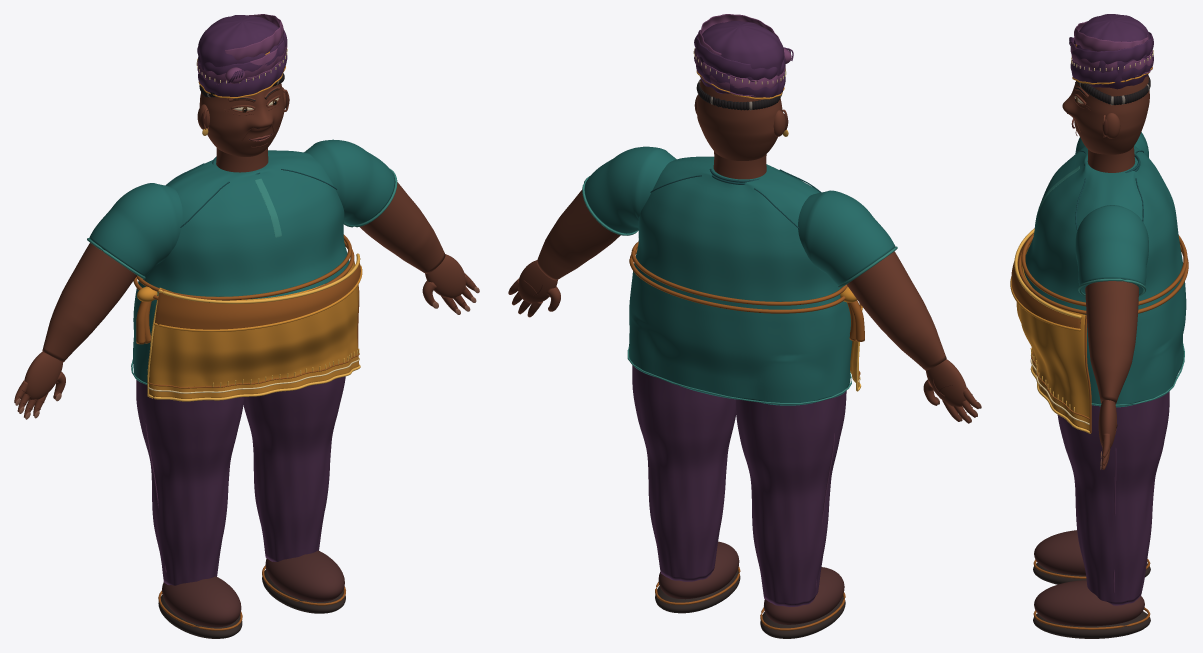
3 views of the same model, side by side, from view 1: azimuth 30°, elevation 25°; view 2: azimuth 150°, elevation 25°; view 3: azimuth 270°, elevation 25° (orthographic).
Parts seen in each view (by area): view 1: 01 Tunic • shaped full chest abdomen hips and back, R trouser leg • broad thigh shaped knee calf, 06 Saffron apron • curved woven panel, L trouser leg • broad thigh shaped knee calf, R woven short sleeve, R continuous upper arm elbow and forearm, Apron layered diagonal turnback, L woven short sleeve, 07 Dalia • integrated face cranium nose cheekbones and jaw, L continuous upper arm elbow and forearm, R rounded leather clog, L rounded leather clog (+14 smaller); view 2: 01 Tunic • shaped full chest abdomen hips and back, R trouser leg • broad thigh shaped knee calf, L trouser leg • broad thigh shaped knee calf, R woven short sleeve, R continuous upper arm elbow and forearm, L woven short sleeve, 07 Dalia • integrated face cranium nose cheekbones and jaw, L continuous upper arm elbow and forearm, Headwrap gathered crown, Apron waist binding (×2), R rounded leather clog, L rounded leather clog (+9 smaller); view 3: 01 Tunic • shaped full chest abdomen hips and back, L trouser leg • broad thigh shaped knee calf, L continuous upper arm elbow and forearm, L woven short sleeve, 06 Saffron apron • curved woven panel, 07 Dalia • integrated face cranium nose cheekbones and jaw, L rounded leather clog, Headwrap gathered crown, Apron waist binding (×2), R rounded leather clog, L clog sole, Apron layered diagonal turnback (+14 smaller).
Boxes of the visible parts, left/top/right/bottom form: 01 Tunic • shaped full chest abdomen hips and back: left=133, top=150, right=349, bottom=383; R trouser leg • broad thigh shaped knee calf: left=136, top=380, right=244, bottom=585; 06 Saffron apron • curved woven panel: left=149, top=262, right=359, bottom=398; L trouser leg • broad thigh shaped knee calf: left=243, top=376, right=345, bottom=561; R woven short sleeve: left=89, top=183, right=182, bottom=276; R continuous upper arm elbow and forearm: left=42, top=243, right=136, bottom=362; Apron layered diagonal turnback: left=155, top=263, right=360, bottom=329; L woven short sleeve: left=304, top=139, right=395, bottom=225; 07 Dalia • integrated face cranium nose cheekbones and jaw: left=199, top=83, right=284, bottom=156; L continuous upper arm elbow and forearm: left=360, top=182, right=445, bottom=273; R rounded leather clog: left=162, top=576, right=241, bottom=627; L rounded leather clog: left=265, top=550, right=344, bottom=601; 01 Tunic • shaped full chest abdomen hips and back: left=629, top=156, right=852, bottom=405; R trouser leg • broad thigh shaped knee calf: left=735, top=390, right=846, bottom=606; L trouser leg • broad thigh shaped knee calf: left=632, top=365, right=736, bottom=581; R woven short sleeve: left=798, top=190, right=895, bottom=285; R continuous upper arm elbow and forearm: left=846, top=251, right=946, bottom=370; L woven short sleeve: left=584, top=146, right=676, bottom=233; 07 Dalia • integrated face cranium nose cheekbones and jaw: left=697, top=78, right=782, bottom=160; L continuous upper arm elbow and forearm: left=537, top=189, right=620, bottom=280; Headwrap gathered crown: left=695, top=21, right=784, bottom=93; Apron waist binding (×2): left=629, top=241, right=847, bottom=313; R rounded leather clog: left=764, top=567, right=844, bottom=624; L rounded leather clog: left=658, top=541, right=739, bottom=599; 01 Tunic • shaped full chest abdomen hips and back: left=1024, top=145, right=1186, bottom=407; L trouser leg • broad thigh shaped knee calf: left=1057, top=391, right=1169, bottom=605; L continuous upper arm elbow and forearm: left=1085, top=281, right=1139, bottom=404; L woven short sleeve: left=1075, top=205, right=1148, bottom=294; 06 Saffron apron • curved woven panel: left=1016, top=241, right=1089, bottom=430; 07 Dalia • integrated face cranium nose cheekbones and jaw: left=1062, top=75, right=1149, bottom=154; L rounded leather clog: left=1034, top=580, right=1144, bottom=626; Headwrap gathered crown: left=1073, top=14, right=1150, bottom=89; Apron waist binding (×2): left=1018, top=233, right=1188, bottom=314; R rounded leather clog: left=1034, top=530, right=1085, bottom=575; L clog sole: left=1033, top=611, right=1150, bottom=638; Apron layered diagonal turnback: left=1011, top=237, right=1081, bottom=328.
Size of the model in its own units: 1.39 by 1.67 by 0.4602.
